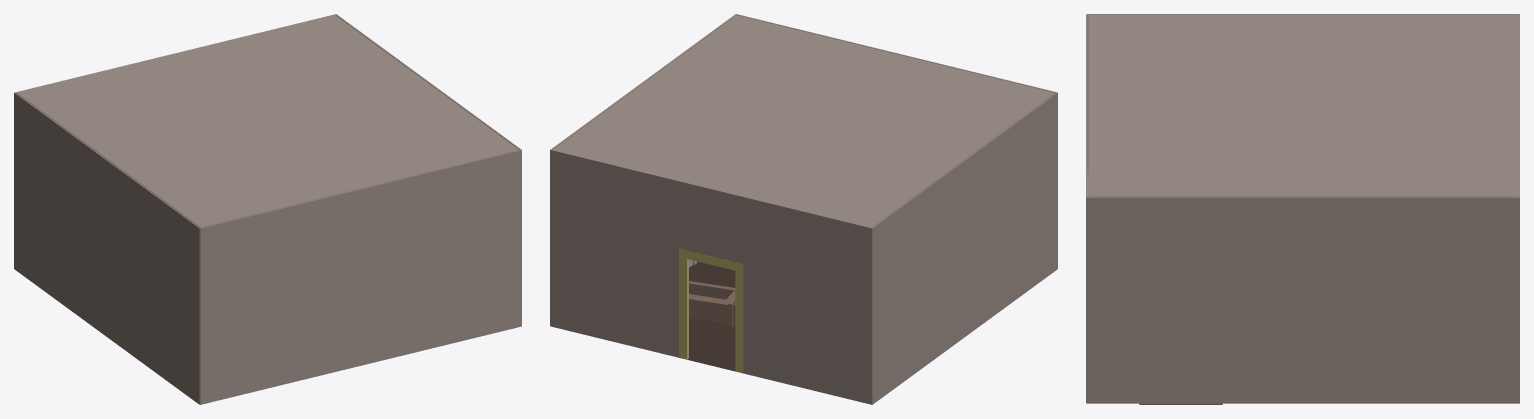
The model's file is Room42_Storeroom.fbx.
3 renders of one model, left to right at view 1: azimuth 30°, elevation 25°; view 2: azimuth 150°, elevation 25°; view 3: azimuth 270°, elevation 25°, orthographic. The views are drawn at different scales.
Visible parts, largest first — view 1: Roof, WallPosZ, WallPosX, WallPosZ13, WallPosX24, WallNegX; view 2: Roof, WallSlicedNegZ, WallPosX, WallSlicedNegZ23, WallPosX24, Floor, DoorFrameNegZ, pCube268, WallNegX, WallPosZ; view 3: Roof, WallNegX, WallNegX2, WallPosX, WallPosZ.
Boxes of the visible parts, x1,y1,x2,y2 form: Roof: (17, 15, 518, 227); WallPosZ: (200, 149, 521, 364); WallPosX: (14, 92, 199, 364); WallPosZ13: (200, 286, 521, 404); WallPosX24: (14, 229, 199, 404); WallNegX: (335, 14, 521, 285); Roof: (553, 15, 1054, 227); WallSlicedNegZ: (550, 149, 872, 364); WallPosX: (871, 92, 1057, 364); WallSlicedNegZ23: (550, 286, 871, 404); WallPosX24: (870, 229, 1057, 404); Floor: (679, 261, 742, 373); DoorFrameNegZ: (679, 248, 743, 372); pCube268: (689, 281, 735, 327); WallNegX: (550, 14, 736, 285); WallPosZ: (736, 14, 1057, 92); Roof: (1088, 15, 1517, 196); WallNegX: (1086, 197, 1519, 356); WallNegX2: (1086, 356, 1519, 403); WallPosX: (1087, 14, 1519, 173); WallPosZ: (1086, 14, 1087, 356).
Bounding box in the file's own units: 802 × 426 × 801.
